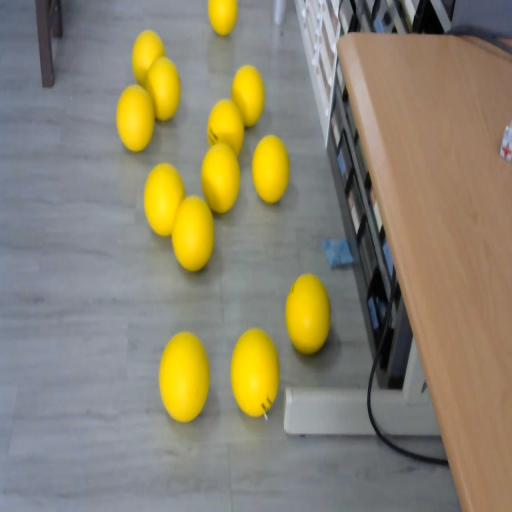FUEL: (158, 330, 210, 422), (230, 327, 280, 418), (170, 194, 216, 272), (286, 273, 330, 354), (201, 142, 241, 214), (252, 134, 290, 202), (116, 84, 154, 151), (145, 54, 182, 122), (231, 64, 266, 126), (208, 0, 238, 36)
